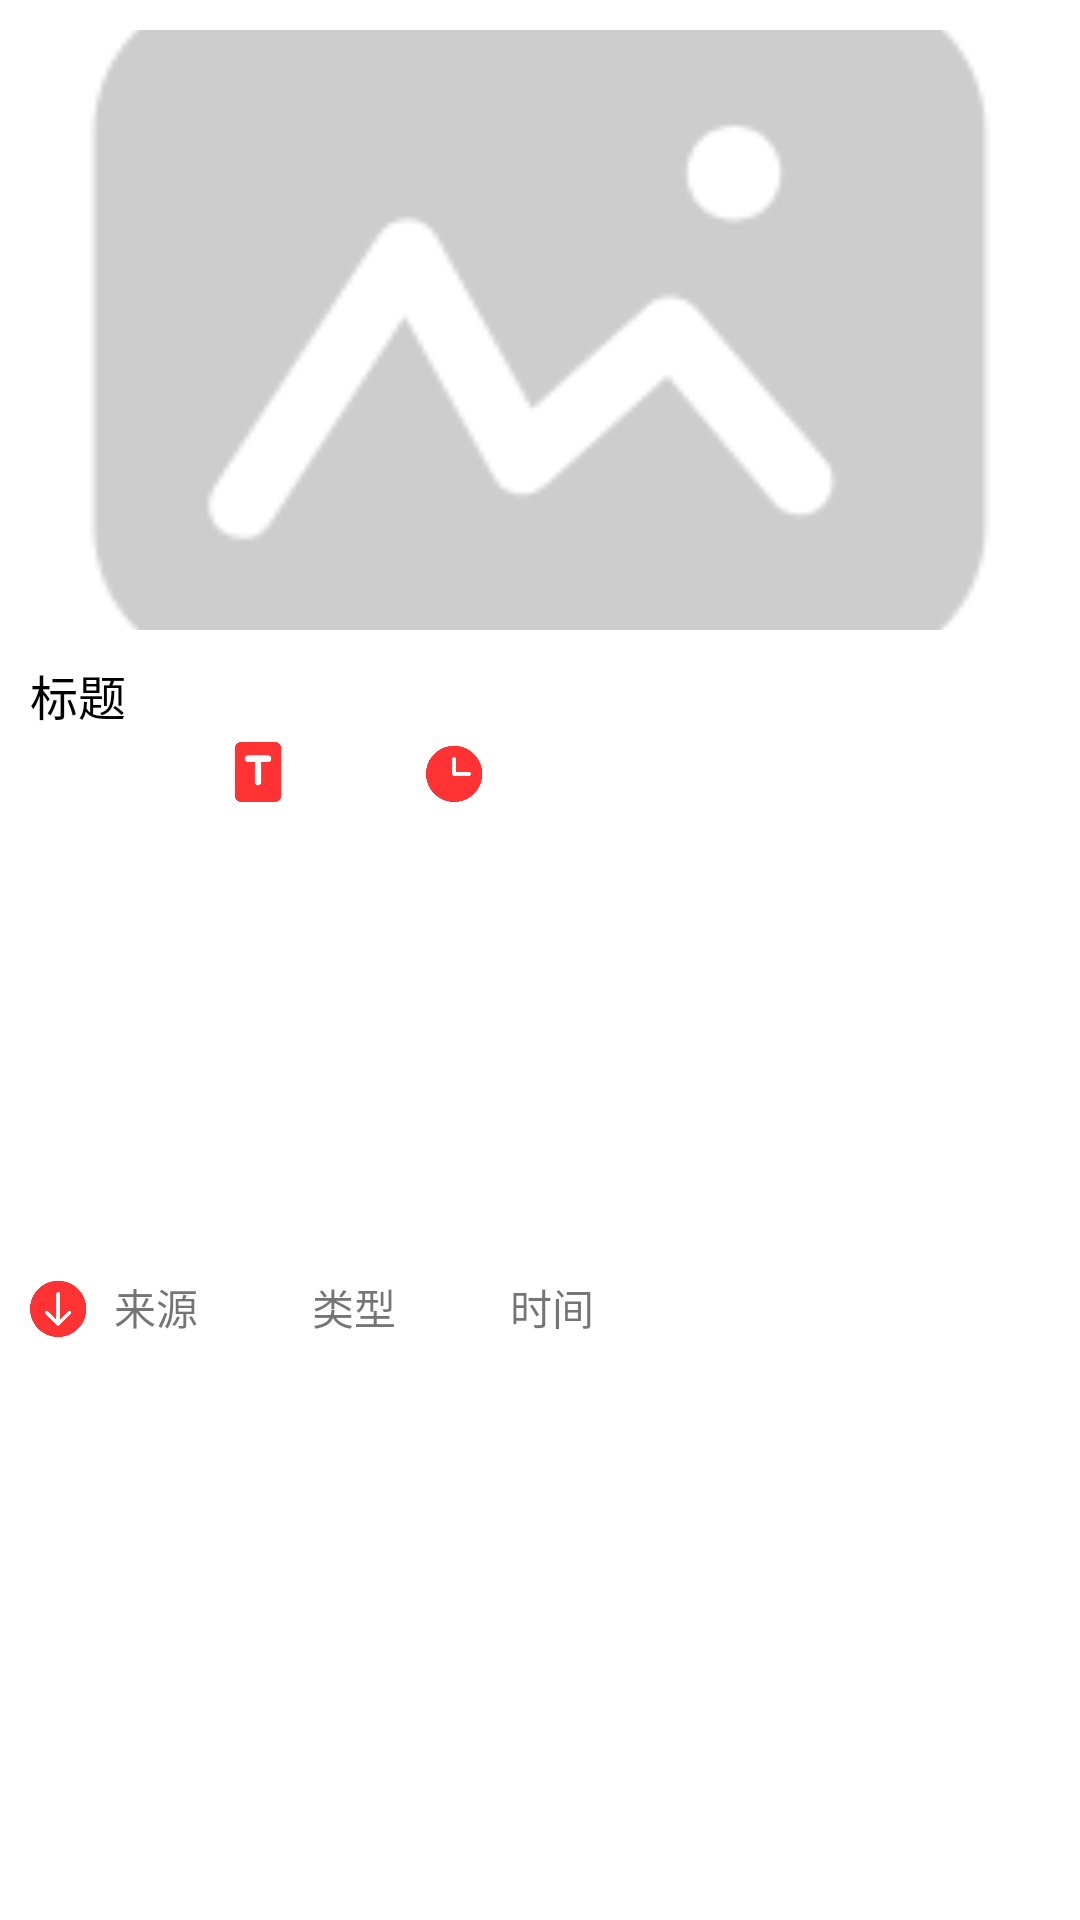

Icon click points for this 1080w x 1920h phone screenshot, format (x=x, y=y):
time: (x=454, y=774)
type: (x=258, y=772)
